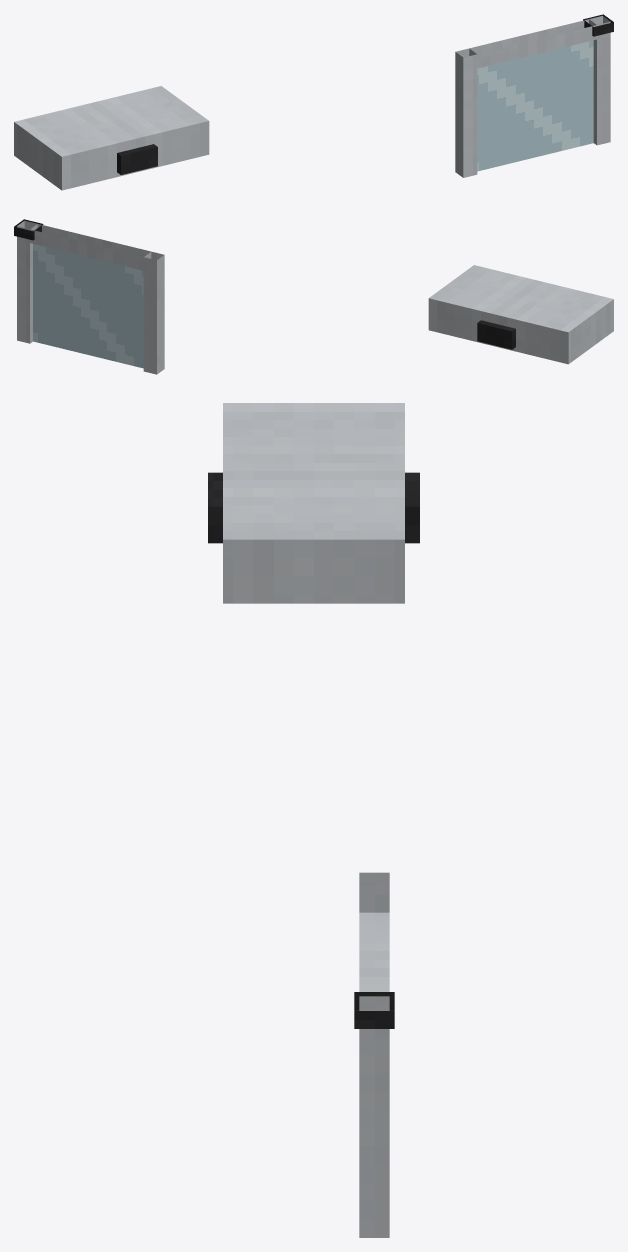
The model's file is auto_door_tele_slider_clear_c2_upper_right_open.obj.
3 views of the same model, one above another, from view 1: azimuth 30°, elevation 25°; view 2: azimuth 150°, elevation 25°; view 3: azimuth 270°, elevation 25° (orthographic). The views are drawn at different scales.
Visible parts, largest first — view 1: auto_door_tele_slider_clear_c2_upper_right_open; view 2: auto_door_tele_slider_clear_c2_upper_right_open; view 3: auto_door_tele_slider_clear_c2_upper_right_open.
Boxes of the visible parts, box(x1,y1,x2,y2) form: auto_door_tele_slider_clear_c2_upper_right_open: box(14, 14, 613, 190); auto_door_tele_slider_clear_c2_upper_right_open: box(14, 219, 613, 374); auto_door_tele_slider_clear_c2_upper_right_open: box(208, 403, 419, 1237).
Bounding box in the file's own units: 3.98 × 1 × 0.6562.
